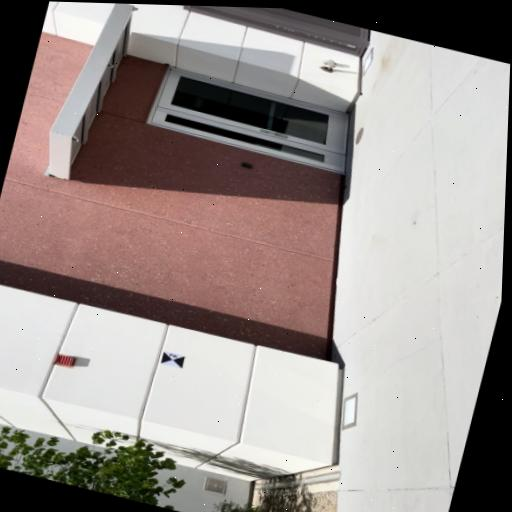target2: (160, 351, 186, 368)
